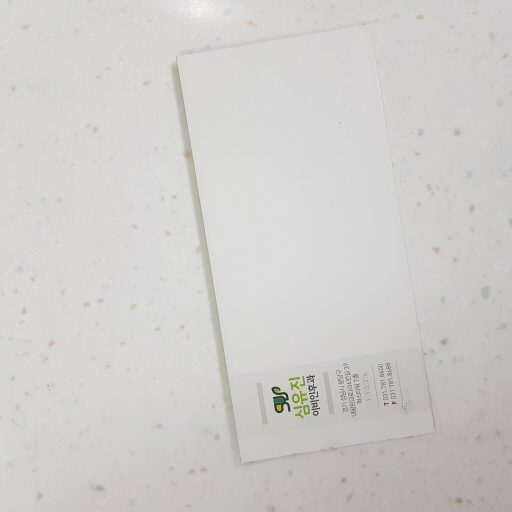Paper_2: (169, 25, 448, 469)
